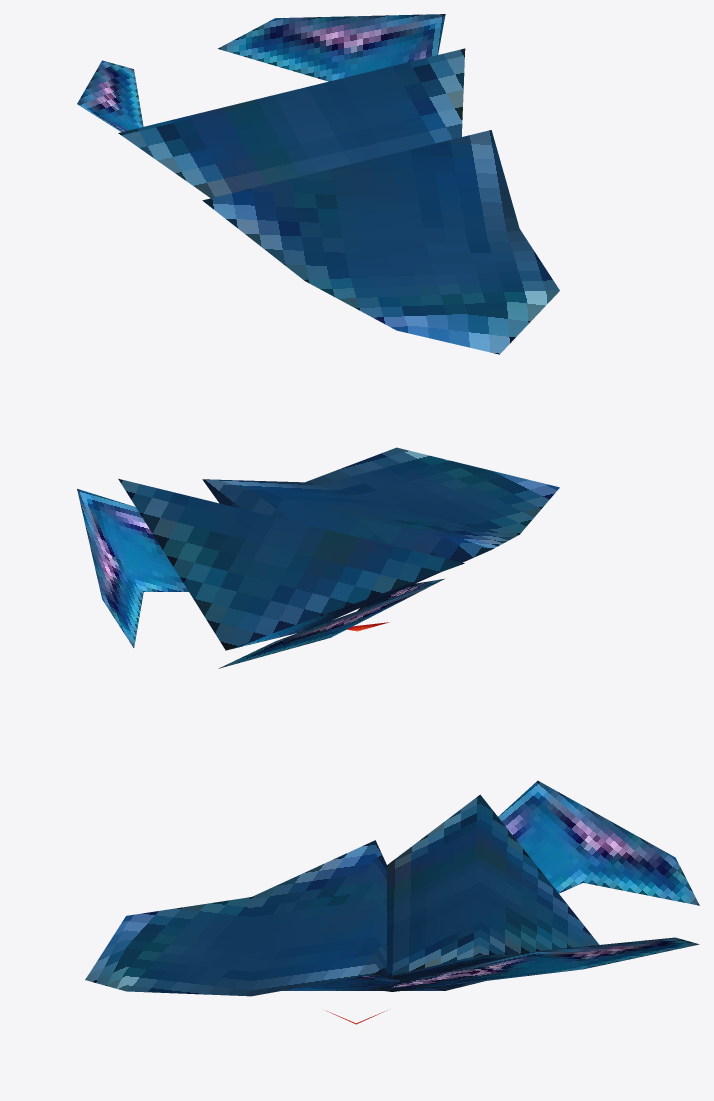
Rendered from rareitem_ticket9.glb.
3 renders of one model, top to bottom at view 1: azimuth 30°, elevation 25°; view 2: azimuth 150°, elevation 25°; view 3: azimuth 270°, elevation 25°, orthographic. The views are drawn at different scales.
Parts seen in each view (by area): view 1: model_rareitem_ticket9; view 2: model_rareitem_ticket9; view 3: model_rareitem_ticket9.
Boxes of the visible parts, x1,y1,x2,y2 form: model_rareitem_ticket9: (77,14,559,354); model_rareitem_ticket9: (77,447,559,668); model_rareitem_ticket9: (85,780,699,1024).
Size of the model in its own units: 0.5085 by 0.2029 by 0.7933.
2 materials, 2 textured.
